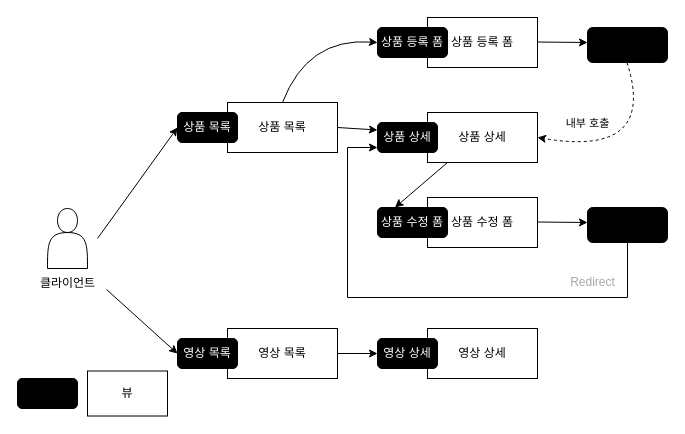
The diagram is 685 pixels wide and 434 high, and some of its shapes have lost their labels. The centre of each missing label's shape, as x and y in pixels:
상품 수정: (627,224)
상품 저장: (627,44)
컨트롤러: (47,393)
